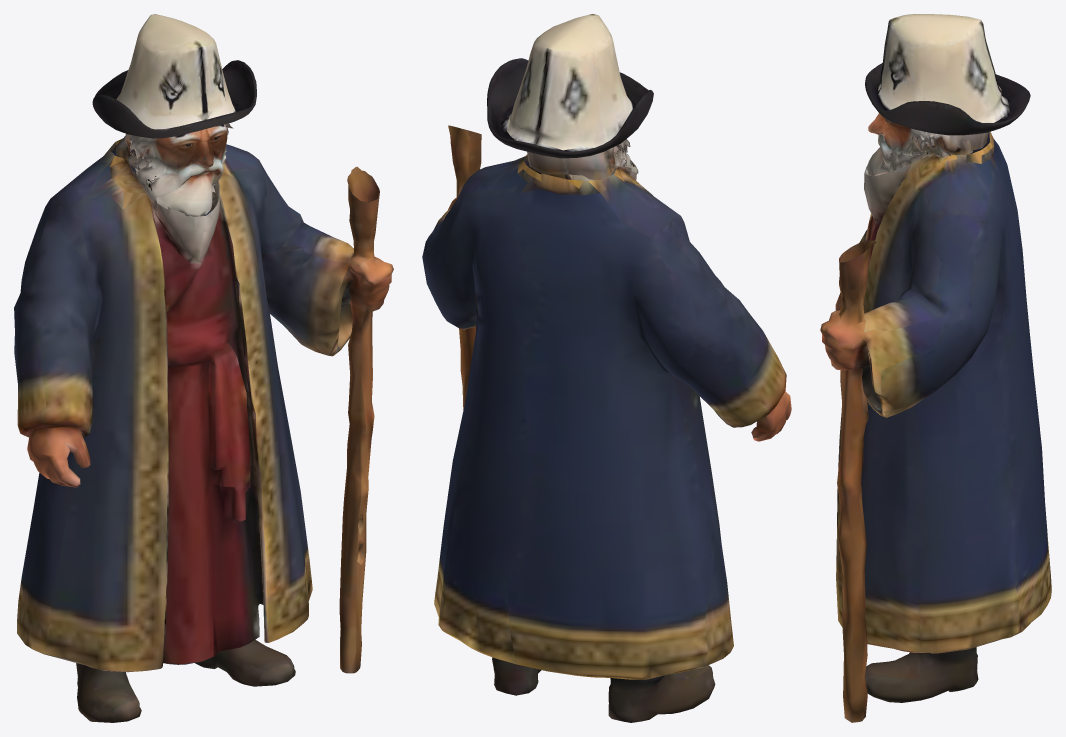
The model's file is elder.gen.phone.glb.
The picture shows the model from 3 angles, left to right: view 1: azimuth 30°, elevation 25°; view 2: azimuth 150°, elevation 25°; view 3: azimuth 270°, elevation 25°; orthographic projection. The views are drawn at different scales.
Parts seen in each view (by area): view 1: elder.raw; view 2: elder.raw; view 3: elder.raw.
Boxes of the visible parts, left/top/right/bottom form: elder.raw: left=14, top=14, right=393, bottom=722; elder.raw: left=422, top=14, right=791, bottom=722; elder.raw: left=820, top=14, right=1051, bottom=722.
Size of the model in its own units: 1.09 by 1.95 by 0.6359.
Materials: 1 (1 with a texture image).
